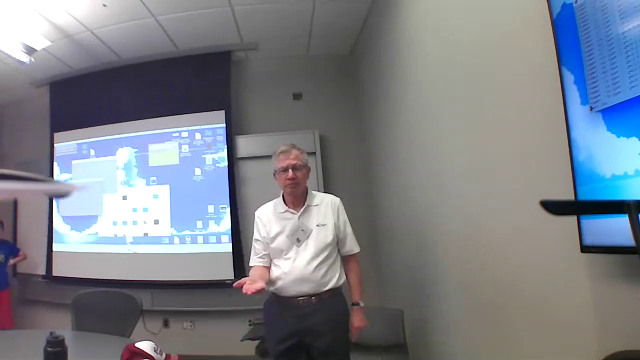land: (228, 270, 272, 300)
